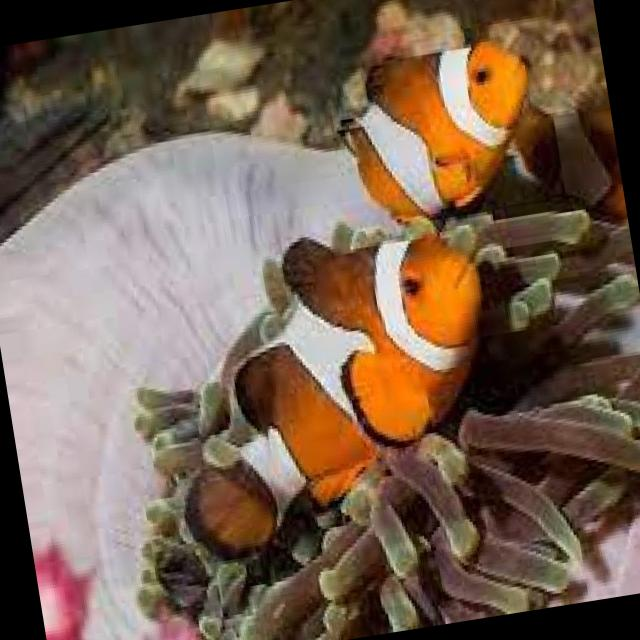ClownFish: (148, 212, 514, 560), (329, 35, 550, 224)
